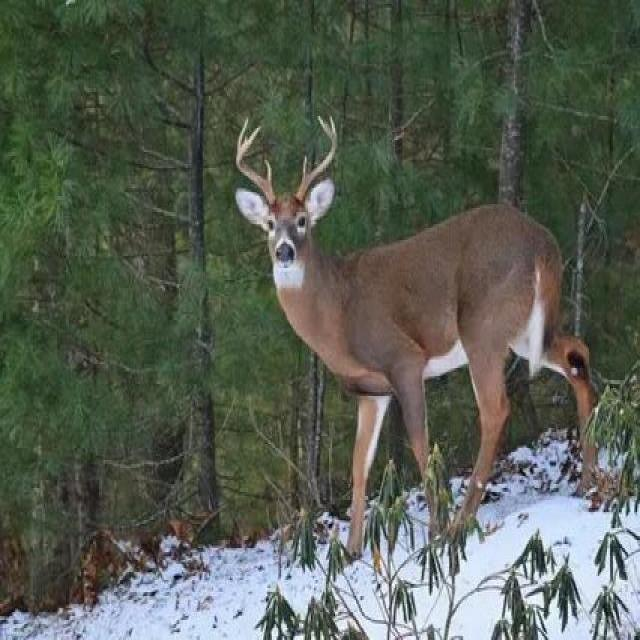deer: (230, 82, 630, 577)
